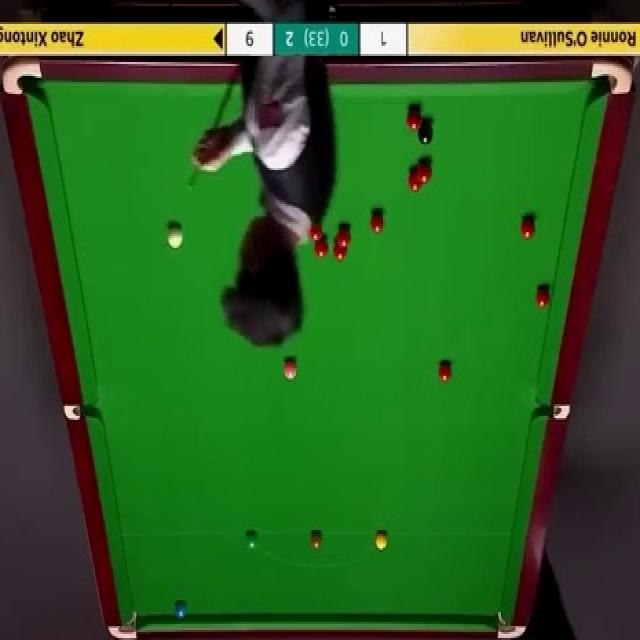black-ball: (417, 120, 432, 146)
blue-ball: (174, 598, 186, 620)
brown-ball: (310, 531, 323, 550)
green-ball: (246, 531, 259, 550)
pink-ball: (282, 356, 298, 378)
red-ball: (415, 158, 432, 184), (406, 105, 421, 134), (519, 216, 535, 242), (407, 169, 423, 193), (535, 282, 550, 307), (371, 212, 385, 236), (335, 225, 350, 246), (333, 241, 348, 262), (314, 237, 328, 259), (310, 222, 323, 243), (438, 362, 452, 380)
white-ball: (167, 223, 183, 248)
yellow-ball: (375, 531, 388, 550)
